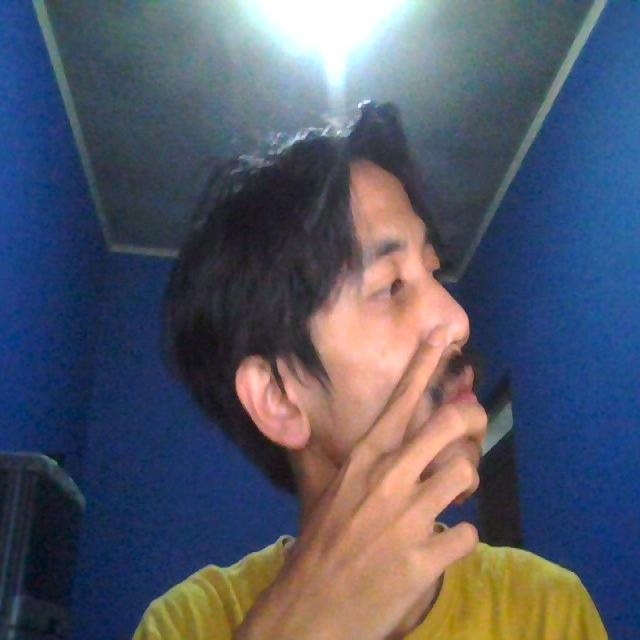movement: (216, 314, 508, 640)
